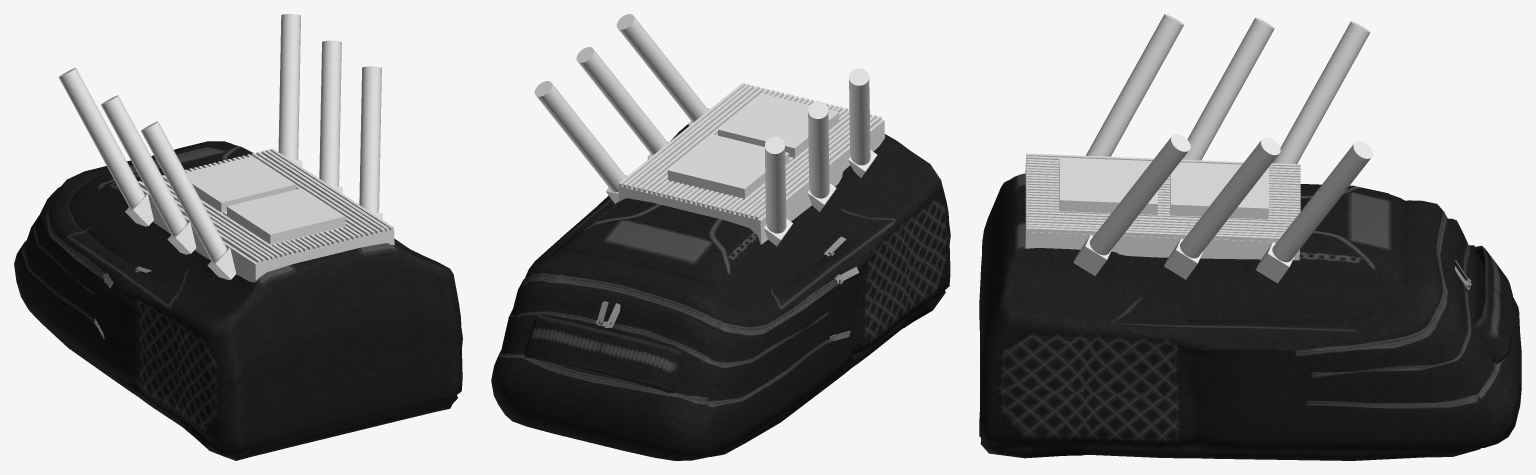
The model's file is jammer ground.fbx.
3 renders of one model, left to right at view 1: azimuth 30°, elevation 25°; view 2: azimuth 150°, elevation 25°; view 3: azimuth 270°, elevation 25°, orthographic. The views are drawn at different scales.
Visible parts, largest first — view 1: LaptopBag.016; view 2: LaptopBag.016; view 3: LaptopBag.016.
Boxes of the visible parts, <box> form: LaptopBag.016: <box>14,14,462,460</box>; LaptopBag.016: <box>491,14,950,460</box>; LaptopBag.016: <box>979,14,1521,460</box>.
Size of the model in its own units: 29.46 by 31.45 by 47.43.
